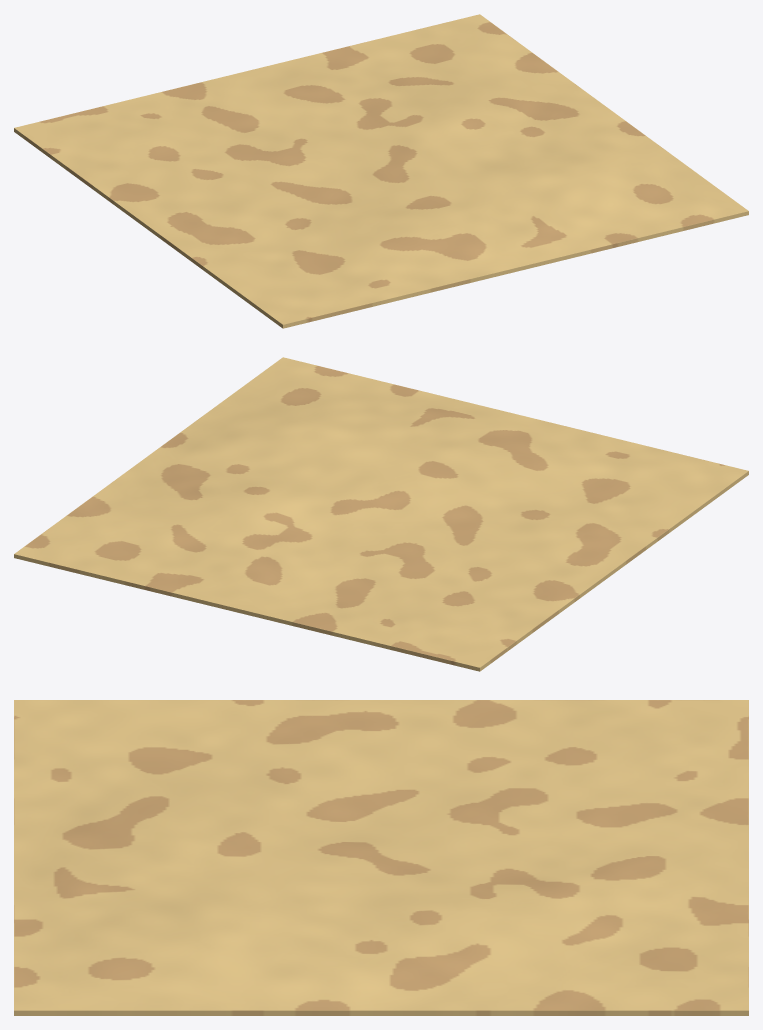
File: Desert_Flat_06.obj
3 renders of one model, top to bottom at view 1: azimuth 30°, elevation 25°; view 2: azimuth 150°, elevation 25°; view 3: azimuth 270°, elevation 25°, orthographic. The views are drawn at different scales.
Bounding box in the file's own units: 10 × 0.251 × 10.
1 material, 1 textured.
